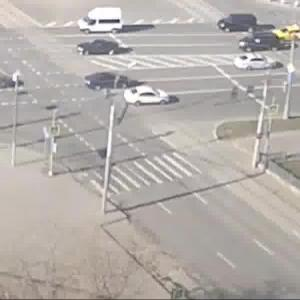car: (231, 53, 292, 73), (75, 4, 120, 28), (112, 84, 166, 104), (77, 39, 123, 59), (86, 73, 129, 92), (240, 30, 275, 52), (218, 11, 256, 29), (1, 72, 42, 88), (274, 25, 300, 40)
